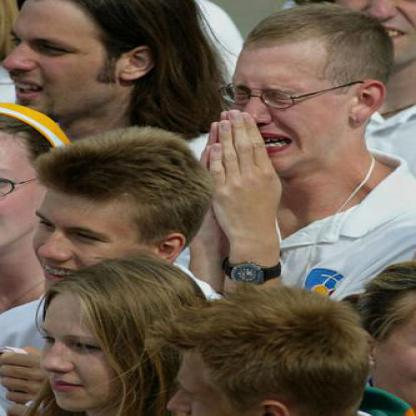face: (224, 24, 355, 175), (30, 166, 153, 309), (24, 279, 143, 415), (1, 1, 120, 121)
